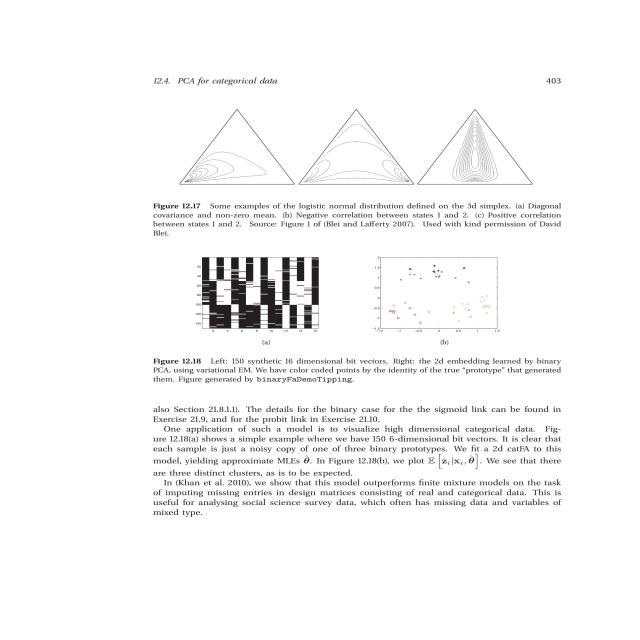diagram: (110, 58, 583, 393)
